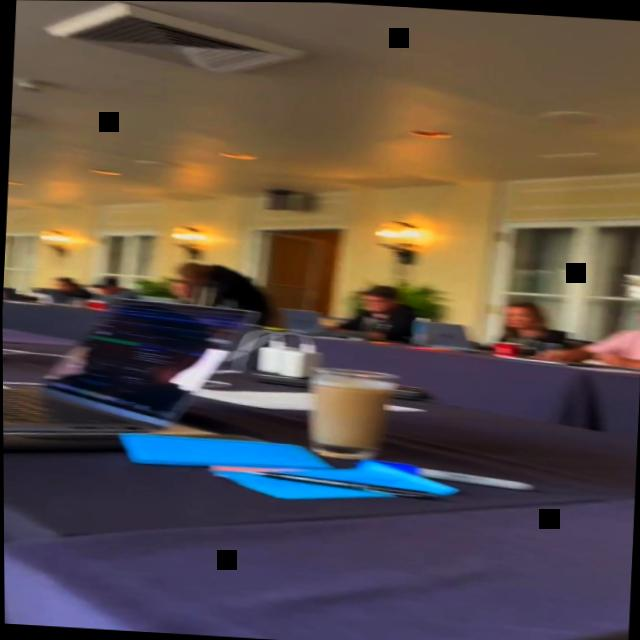NO-Mask: (503, 305, 536, 330), (359, 291, 389, 313), (173, 282, 193, 297), (183, 273, 203, 286), (97, 284, 117, 295), (53, 279, 71, 291)
